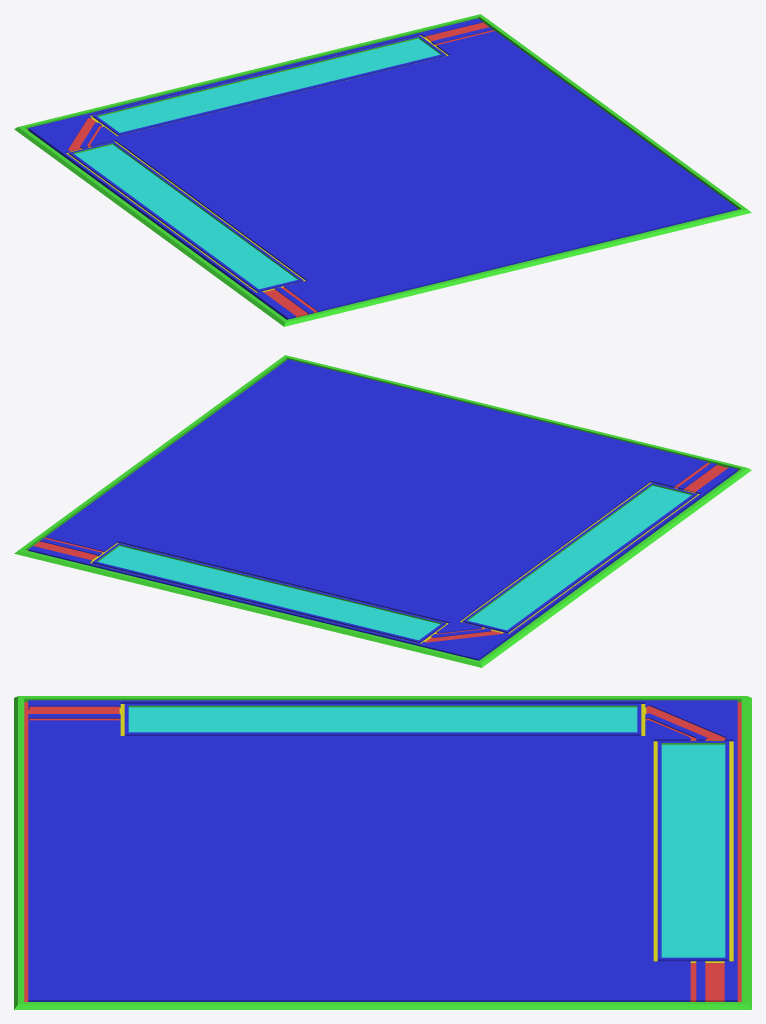
Rendered from Floor_11_G_Corner.fbx.
3 renders of one model, top to bottom at view 1: azimuth 30°, elevation 25°; view 2: azimuth 150°, elevation 25°; view 3: azimuth 270°, elevation 25°, orthographic. The views are drawn at different scales.
Visible parts, largest first — view 1: Floor_11_G_Corner; view 2: Floor_11_G_Corner; view 3: Floor_11_G_Corner.
Part boxes in pixels (box(x1,y1,x2,y2)): Floor_11_G_Corner: box(14, 14, 751, 326); Floor_11_G_Corner: box(14, 355, 751, 667); Floor_11_G_Corner: box(14, 696, 751, 1009).
Size of the model in its own units: 457 by 2.54 by 457.
